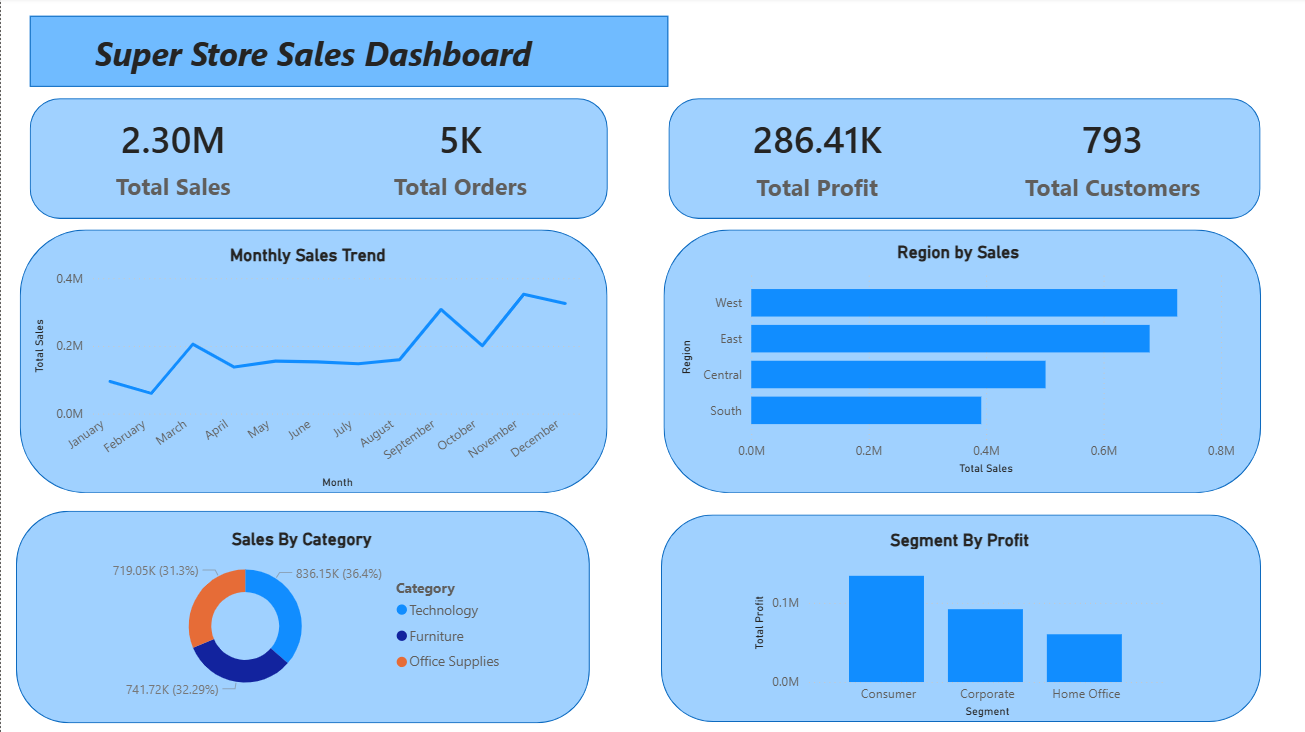

The page's visual inventory and layout, read from the dashboard file:
{"tool":"powerbi","page":{"name":"Page 1","canvas":[1280,720],"ordinal":0},"visuals":[{"type":"shape","box":[653.2,98.8,579.1,118],"z":0,"group":"g1"},{"type":"group","id":"g1","title":"Shapes","box":[14.4,98.8,1217.9,611.7],"z":1000},{"type":"shape","box":[27.5,98.8,565.4,118],"z":1000,"group":"g1"},{"type":"cardVisual","fields":{"Data":["Superstore.Total Sales","Superstore.Total Orders"]},"box":[27.4,72.7,565.4,168.8],"z":1500},{"type":"shape","box":[27.8,18.1,624.7,69.6],"z":2000},{"type":"shape","box":[17.9,227.8,575,258],"z":2000,"group":"g1"},{"type":"textbox","box":[86.3,27.8,566.3,59.8],"z":3000},{"type":"shape","box":[647.7,227.8,584.6,258],"z":3000,"group":"g1"},{"type":"lineChart","title":"Monthly Sales Trend","fields":{"Category":["Superstore.Order Date.Variation.Date Hierarchy.Month"],"Y":["Sum(Superstore.Sales)"]},"box":[27.2,241.7,546.4,243.4],"z":4000},{"type":"shape","box":[14.4,502.6,561.3,207.9],"z":4000,"group":"g1"},{"type":"barChart","title":"Region by Sales","fields":{"Category":["Superstore.Region"],"Y":["Sum(Superstore.Sales)"]},"box":[660.9,239.3,552.3,232.3],"z":5000},{"type":"shape","box":[644.9,506.2,587,203],"z":5000,"group":"g1"},{"type":"donutChart","title":"Sales By Category","fields":{"Category":["Superstore.Category"],"Y":["Superstore.Total Sales"]},"box":[86.8,519.7,414.5,172.4],"z":6000},{"type":"columnChart","title":"Segment By Profit","fields":{"Category":["Superstore.Segment"],"Y":["Sum(Superstore.Profit)"]},"box":[731.8,520.3,413.2,189.2],"z":7000},{"type":"cardVisual","fields":{"Data":["Superstore.Total Profit","Superstore.Total Customers"]},"box":[652.5,72.3,580.2,169.7],"z":7500}]}

Visuals, with their boxes in screenshot pixels (x1, y1, x2, y2), scaled from the page's 1280x720 canvas onto the 1305x732 screenshot:
shape: [666,100,1256,220]
"Shapes" group: [15,100,1256,722]
shape: [28,100,604,220]
cardVisual - Superstore.Total Sales x Superstore.Total Orders: [28,74,604,246]
shape: [28,18,665,89]
shape: [18,232,604,494]
textbox: [88,28,665,89]
shape: [660,232,1256,494]
"Monthly Sales Trend" lineChart: [28,246,585,493]
shape: [15,511,587,722]
"Region by Sales" barChart: [674,243,1237,479]
shape: [657,515,1256,721]
"Sales By Category" donutChart: [88,528,511,704]
"Segment By Profit" columnChart: [746,529,1167,721]
cardVisual - Superstore.Total Profit x Superstore.Total Customers: [665,74,1257,246]
